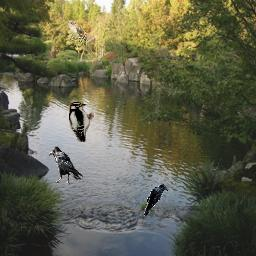Crow: (49, 146, 83, 186), (144, 184, 168, 216)
Cuckoo: (67, 20, 97, 60)
Woodpecker: (69, 102, 94, 142)
